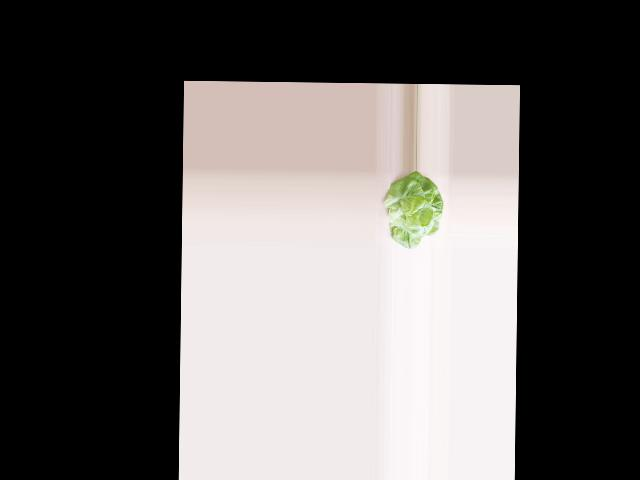lettuce: (385, 172, 443, 247)
